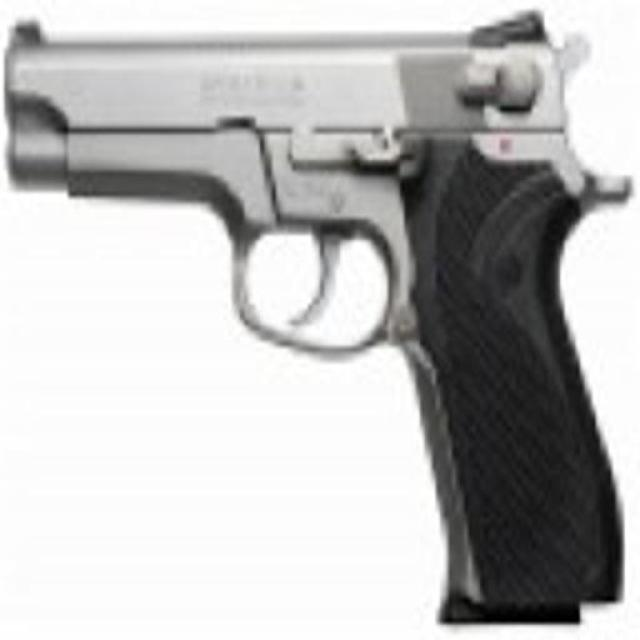pistol: (15, 10, 627, 617)
